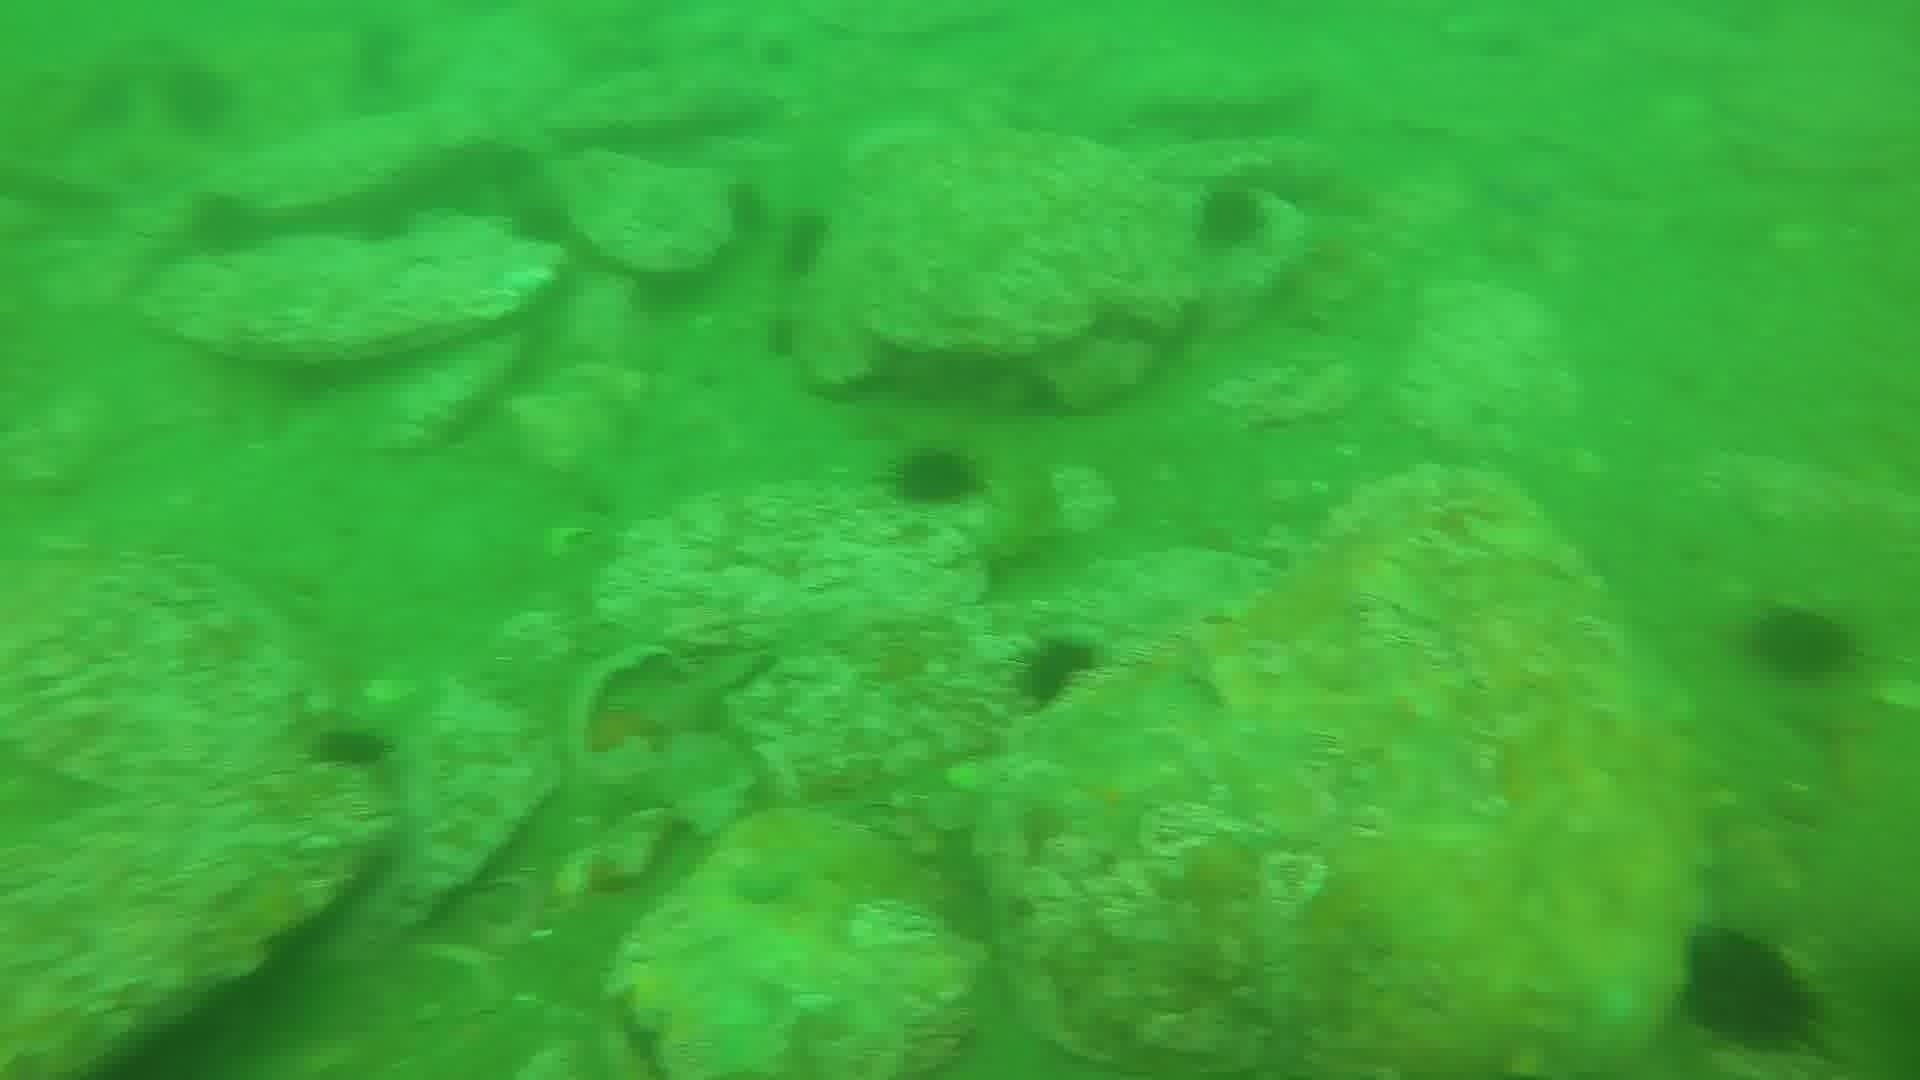echinus: (1675, 922, 1822, 1055), (1745, 600, 1861, 688), (1007, 630, 1105, 715), (884, 440, 986, 516), (156, 58, 241, 138), (182, 189, 269, 262), (1189, 179, 1273, 255), (305, 717, 396, 777), (771, 204, 836, 282), (501, 191, 576, 253), (335, 193, 410, 255), (749, 307, 824, 369), (752, 15, 825, 76), (717, 174, 775, 240)
